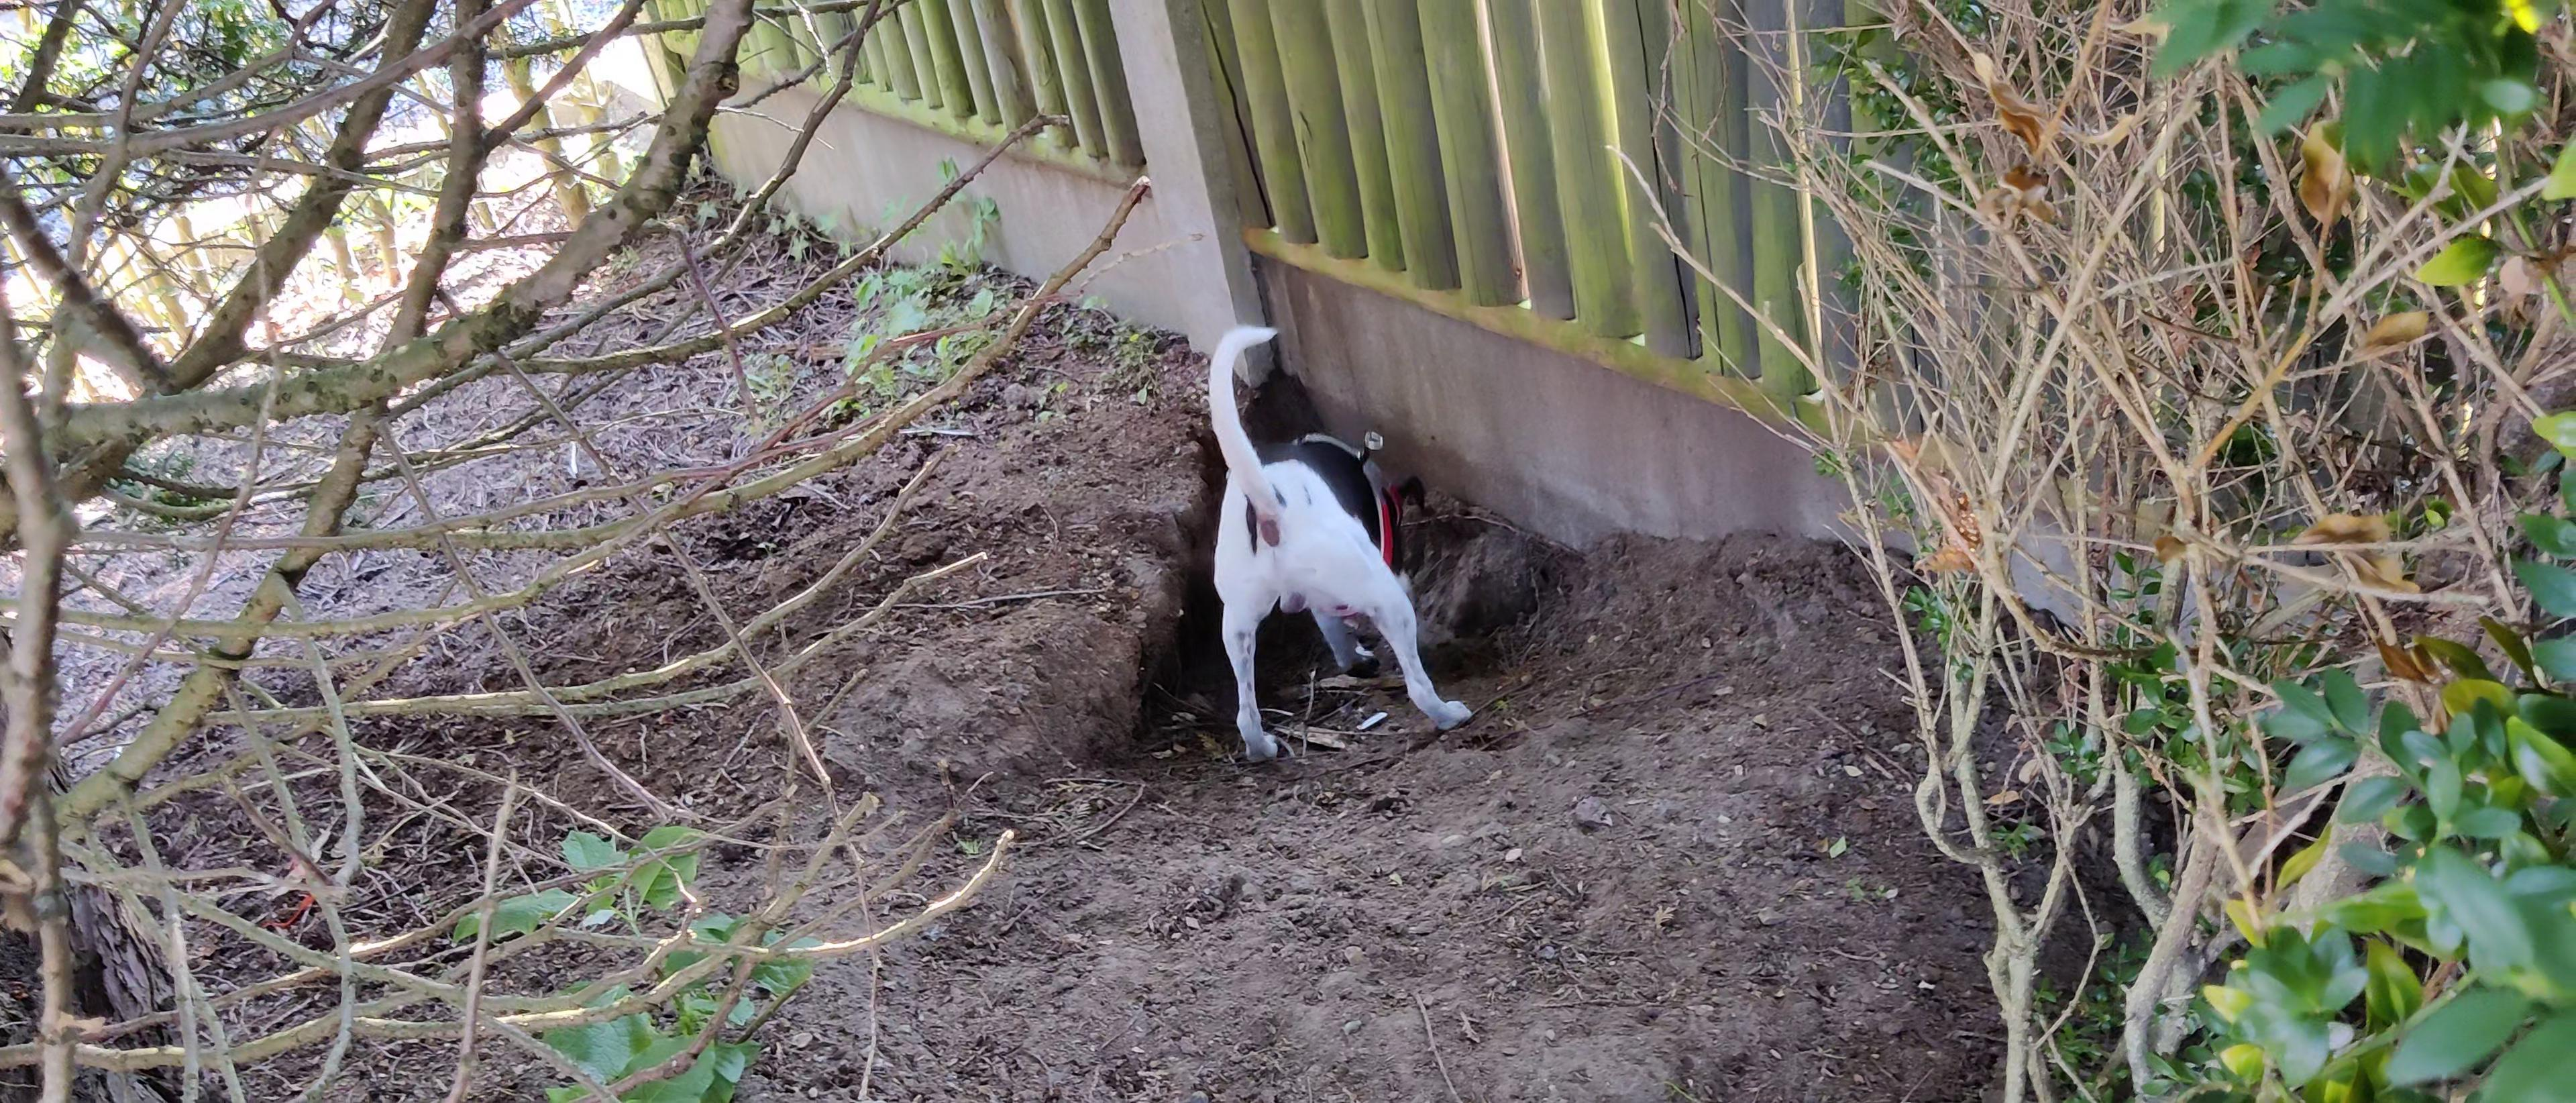Dog: (1171, 293, 1492, 789)
